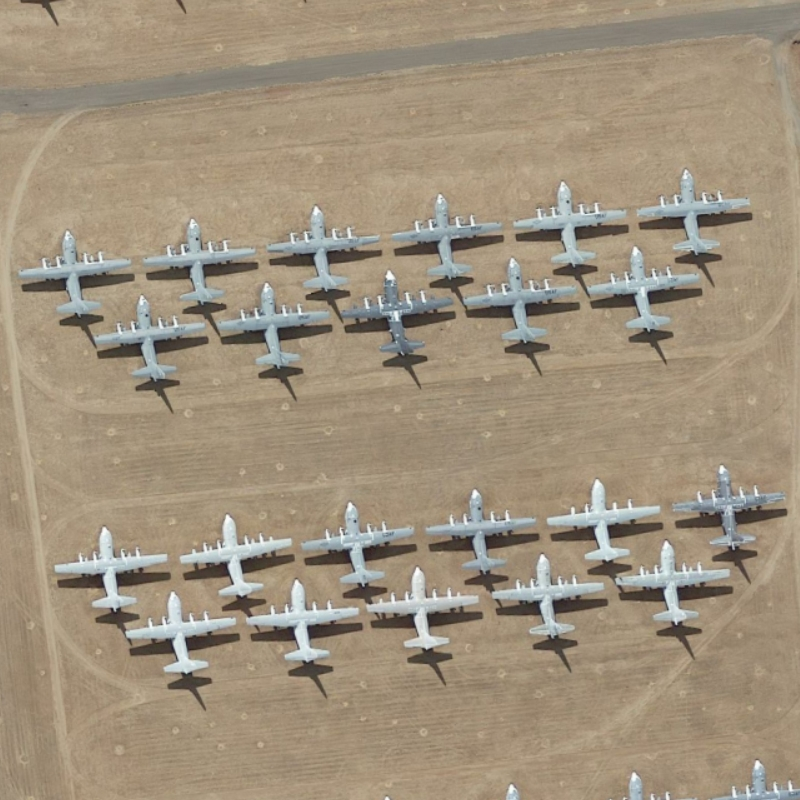A2: (589, 240, 709, 347), (387, 186, 510, 290), (177, 504, 303, 603), (633, 163, 758, 261), (90, 291, 210, 393), (50, 515, 171, 616), (296, 494, 419, 593), (493, 551, 611, 654), (367, 566, 487, 666), (13, 224, 135, 322), (460, 257, 582, 355), (670, 462, 797, 556), (614, 538, 737, 635), (116, 593, 248, 683), (140, 216, 263, 312), (416, 482, 538, 578), (218, 283, 337, 381), (545, 470, 665, 566), (265, 204, 386, 299), (248, 577, 367, 673), (514, 174, 628, 268), (341, 272, 460, 362)
